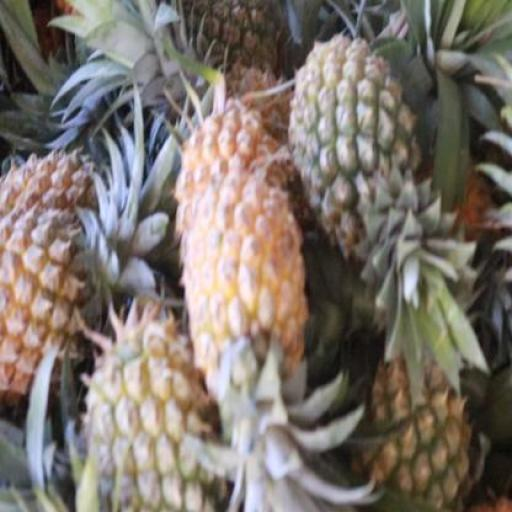------------------------------: (289, 34, 417, 232)
Pineapple - v8 v1: (189, 178, 302, 421)
